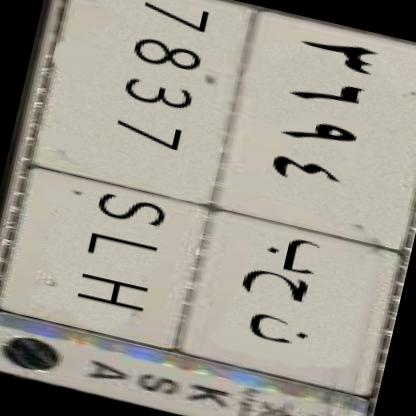english: (0, 0, 269, 364)
